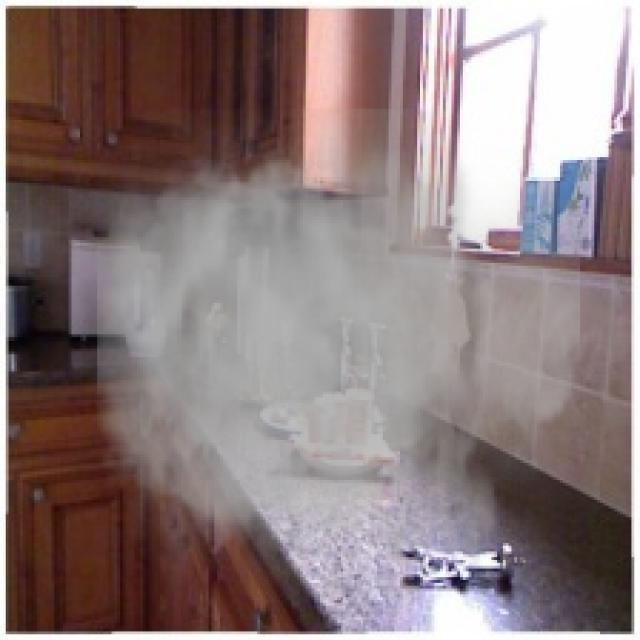Smoke: (65, 108, 580, 623)
